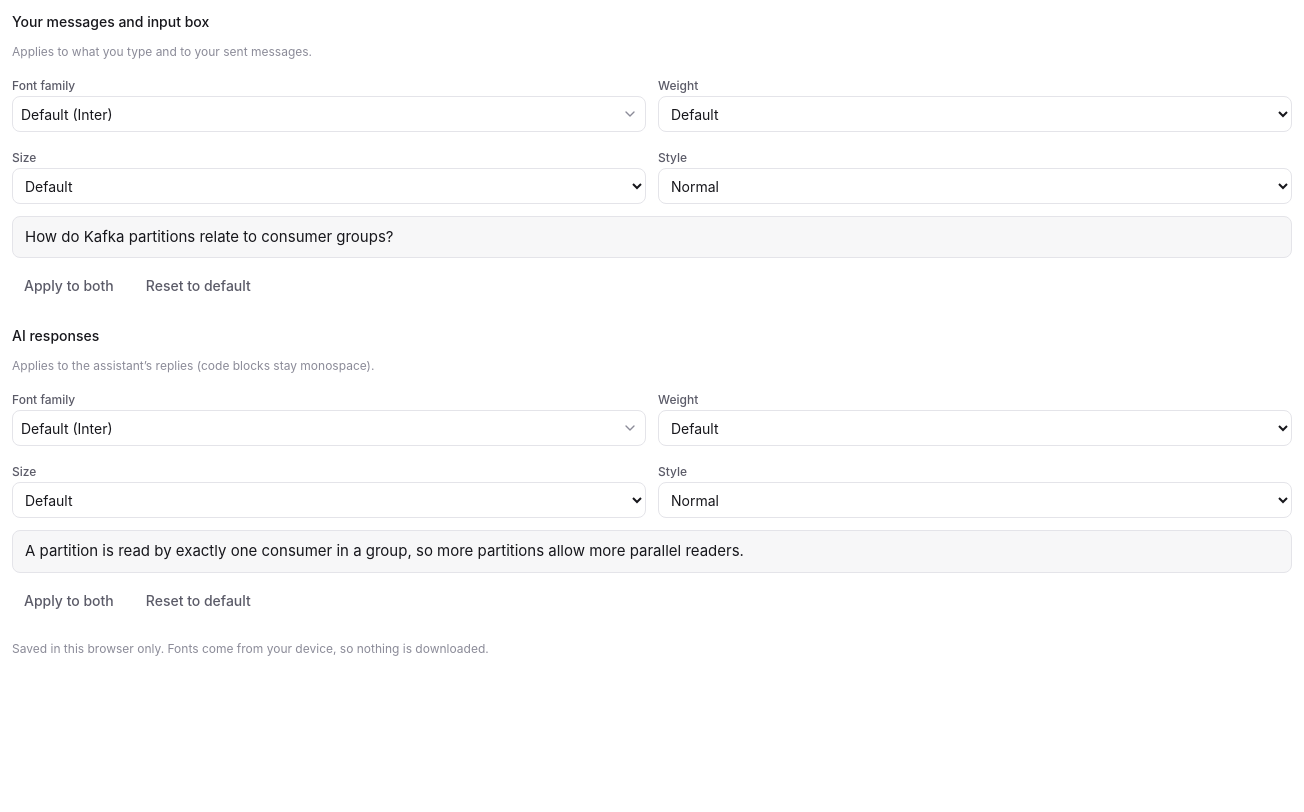
Test case: searchable font picker › says so when nothing matches, and Escape closes without changing the font
The width and height of the screenshot is (1304, 812).
Step 1. Replace the text in the dropdown named "Font family" below "Your messages and input box" with "zzzz" → (329, 114), box [12,96,646,132]
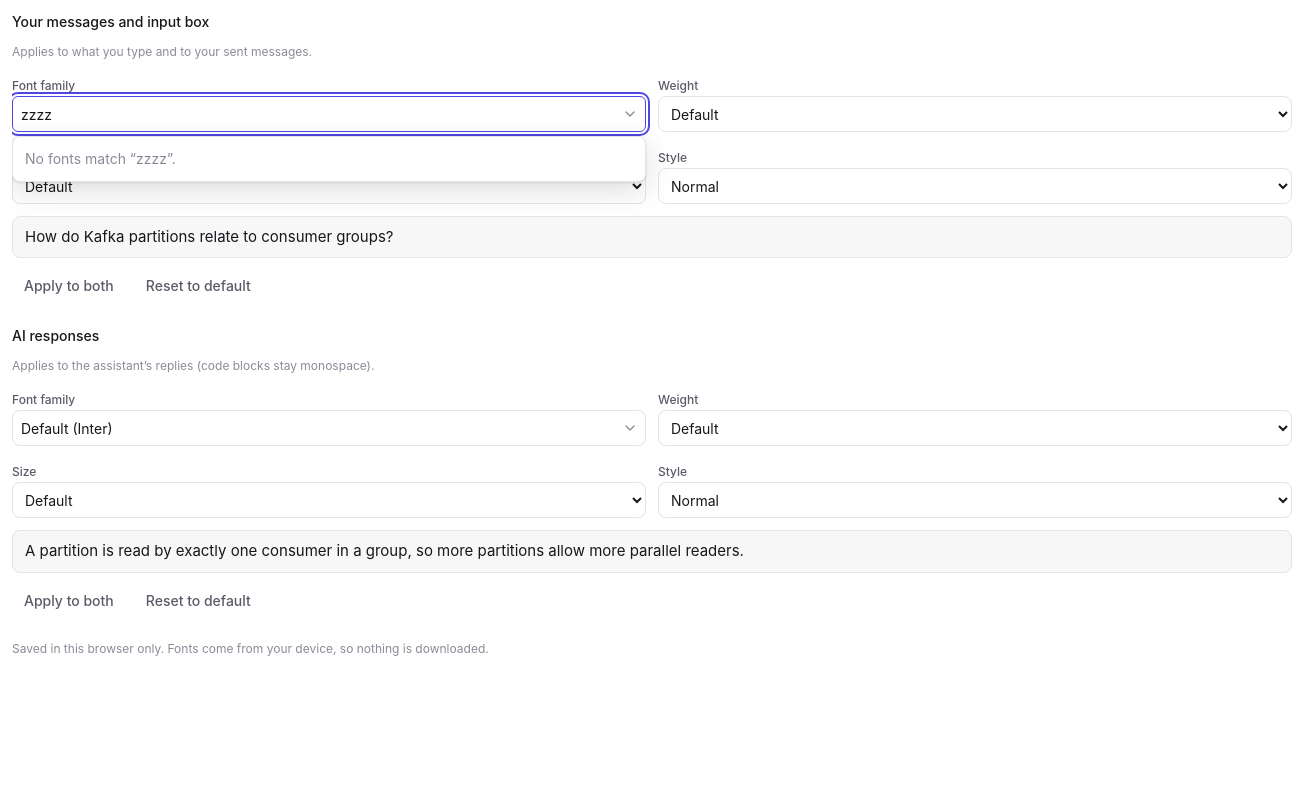
Expected: the list item "No fonts match “zzzz”." is shown, [25,150,176,167]
Step 2. Press Escape in the dropdown named "Font family" below "Your messages and input box", box [12,96,646,132]
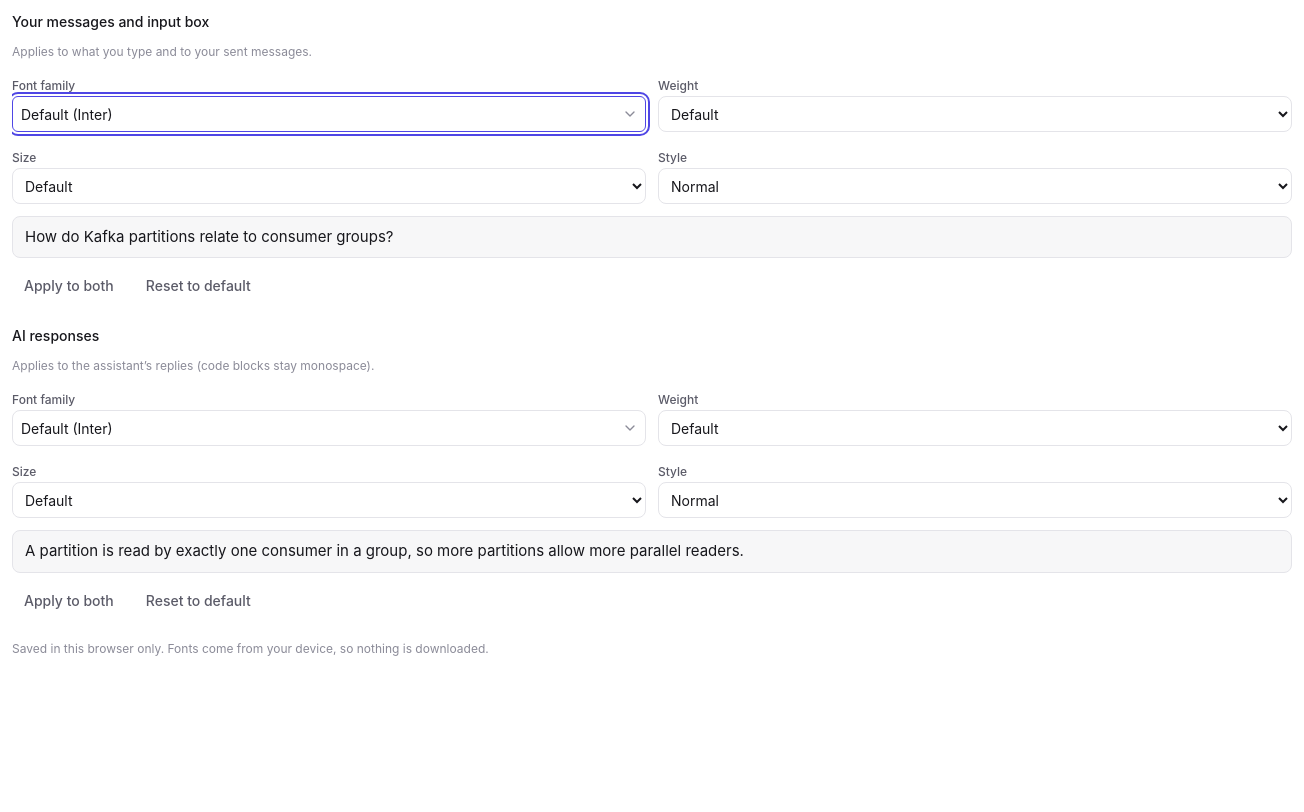
Expected: the list is gone
